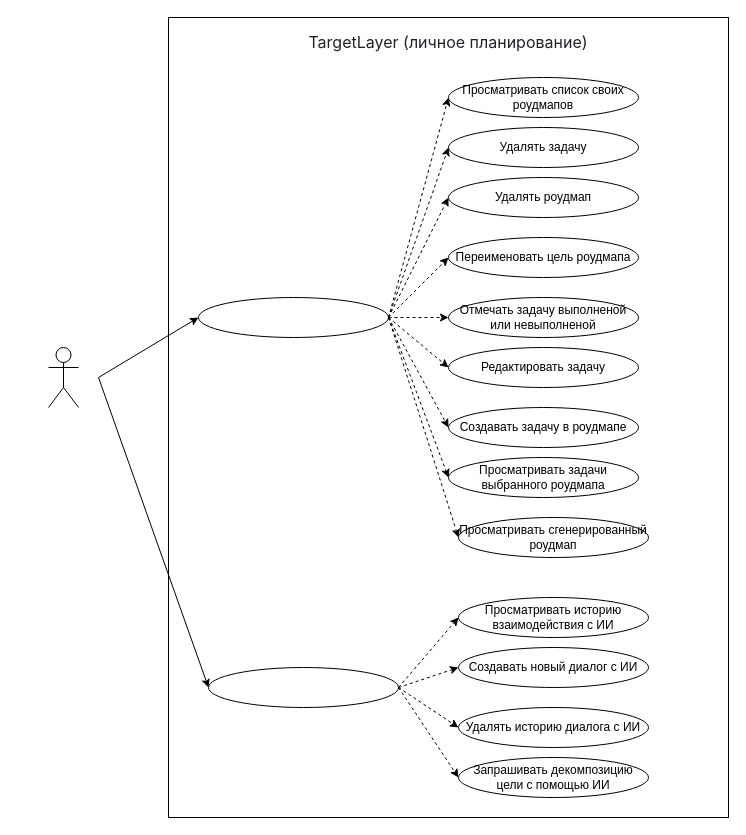
Image size: 746x835. Some labels were removed from this diagram. Each missing label, with the centre of its shape:
Авторизованный пользователь: (63,377)
Работа с ИИ: (303,687)
Работа с роудмапами: (293,317)
